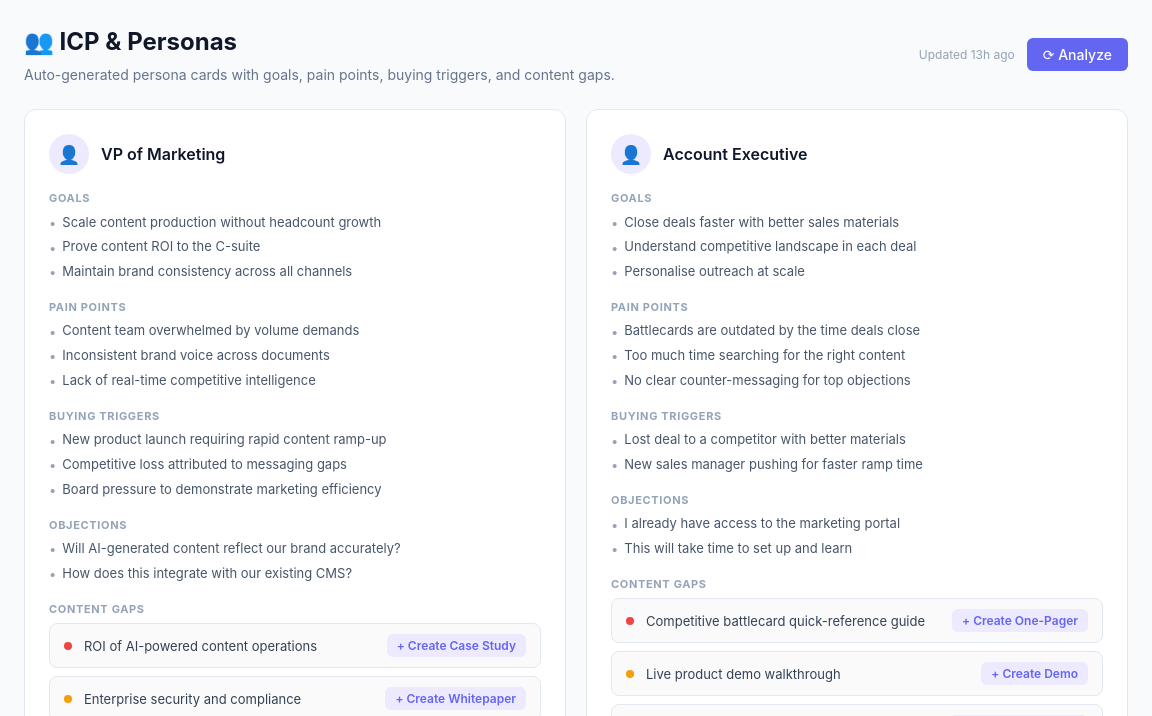
Test case: Analyze button › shows analyzing state while in progress
The image size is (1152, 716).
Click the button with test id "analyze-button" at [1077, 54], box [1027, 38, 1128, 71]
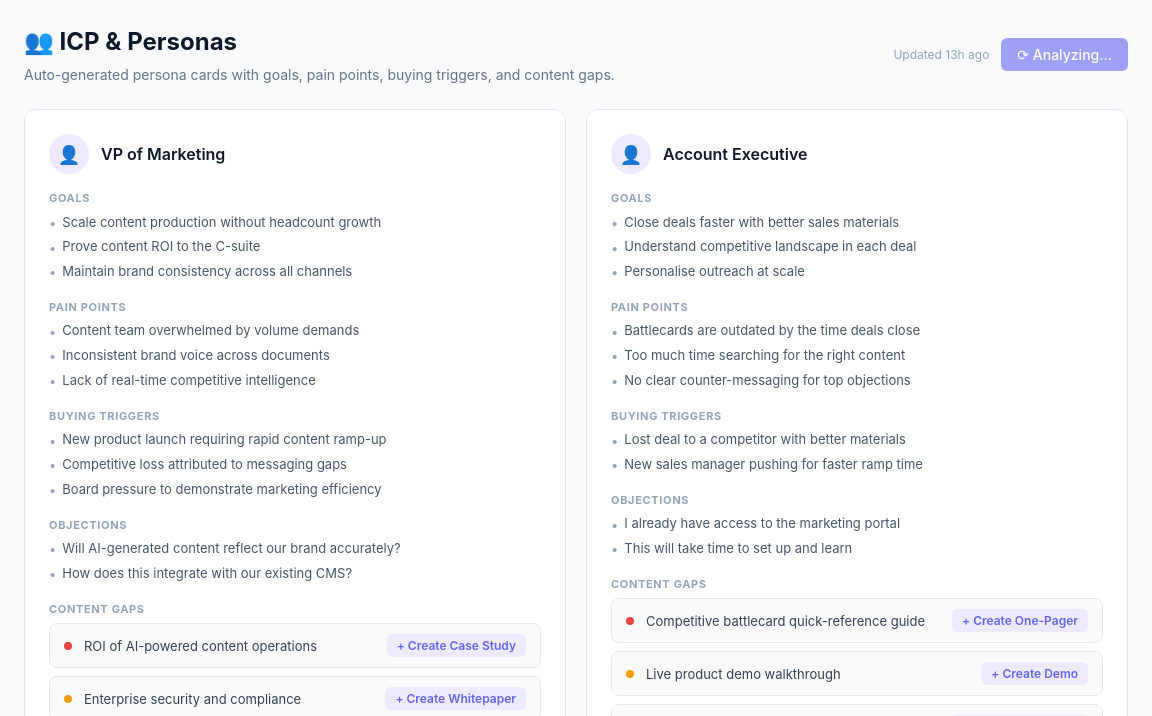
Now the button with test id "analyze-button" shows "Analyzing", box [1001, 38, 1128, 71]
Now the button with test id "analyze-button" is disabled, box [1001, 38, 1128, 71]
